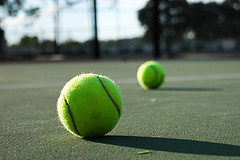tennis ball: (56, 70, 124, 138), (135, 59, 167, 90)
